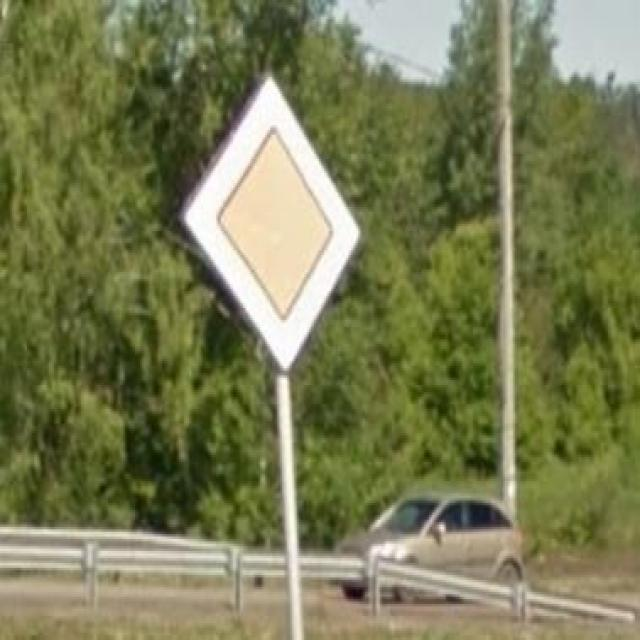Droga z pierwszenstwem: (179, 72, 365, 373)
